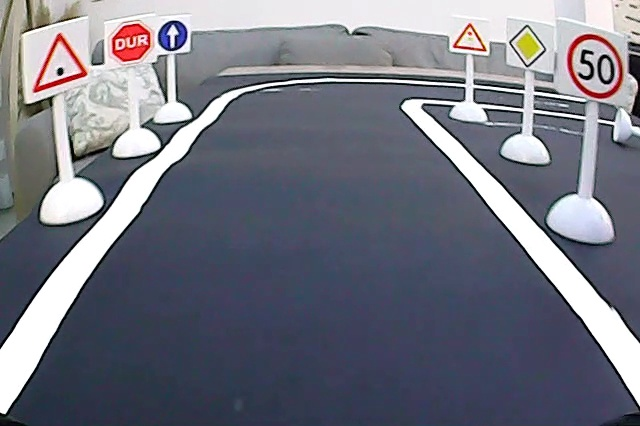green light: (21, 34, 93, 93)
red light: (452, 20, 486, 53)
speed limit 50: (561, 26, 623, 98)
stop sign: (107, 22, 157, 65)
